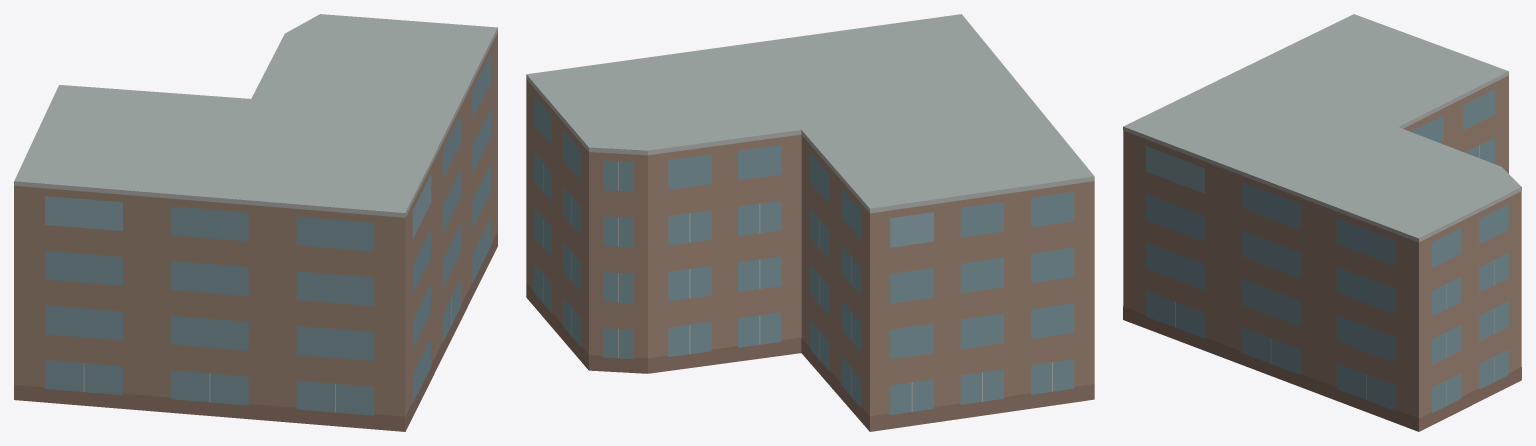
The model's file is survey-upis-32665233.glb.
The picture shows the model from 3 angles, left to right: view 1: azimuth 30°, elevation 25°; view 2: azimuth 150°, elevation 25°; view 3: azimuth 270°, elevation 25°; orthographic projection. The views are drawn at different scales.
Parts seen in each view (by area): view 1: survey-upis-32665233.tmp; view 2: survey-upis-32665233.tmp; view 3: survey-upis-32665233.tmp.
Part boxes in pixels (left/top/right/bottom): survey-upis-32665233.tmp: left=14, top=14, right=497, bottom=431; survey-upis-32665233.tmp: left=526, top=14, right=1094, bottom=431; survey-upis-32665233.tmp: left=1123, top=14, right=1521, bottom=431.
Bounding box in the file's own units: 29.27 × 11.75 × 21.96.
